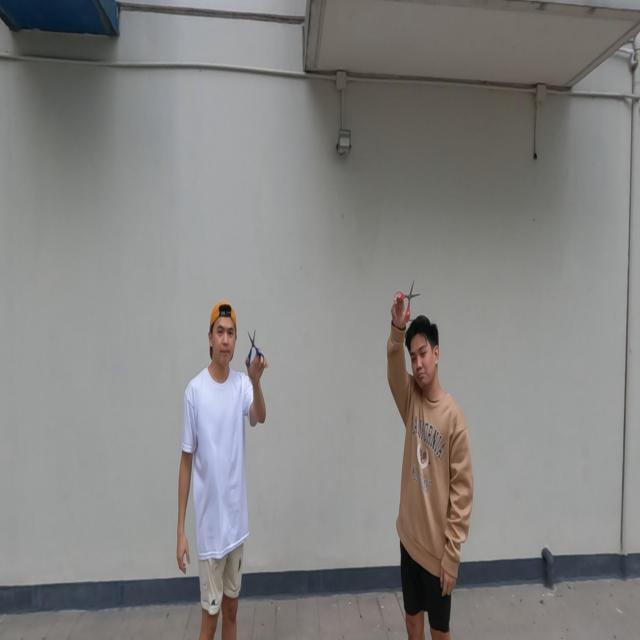scissor: (394, 278, 420, 326), (245, 328, 265, 369)
